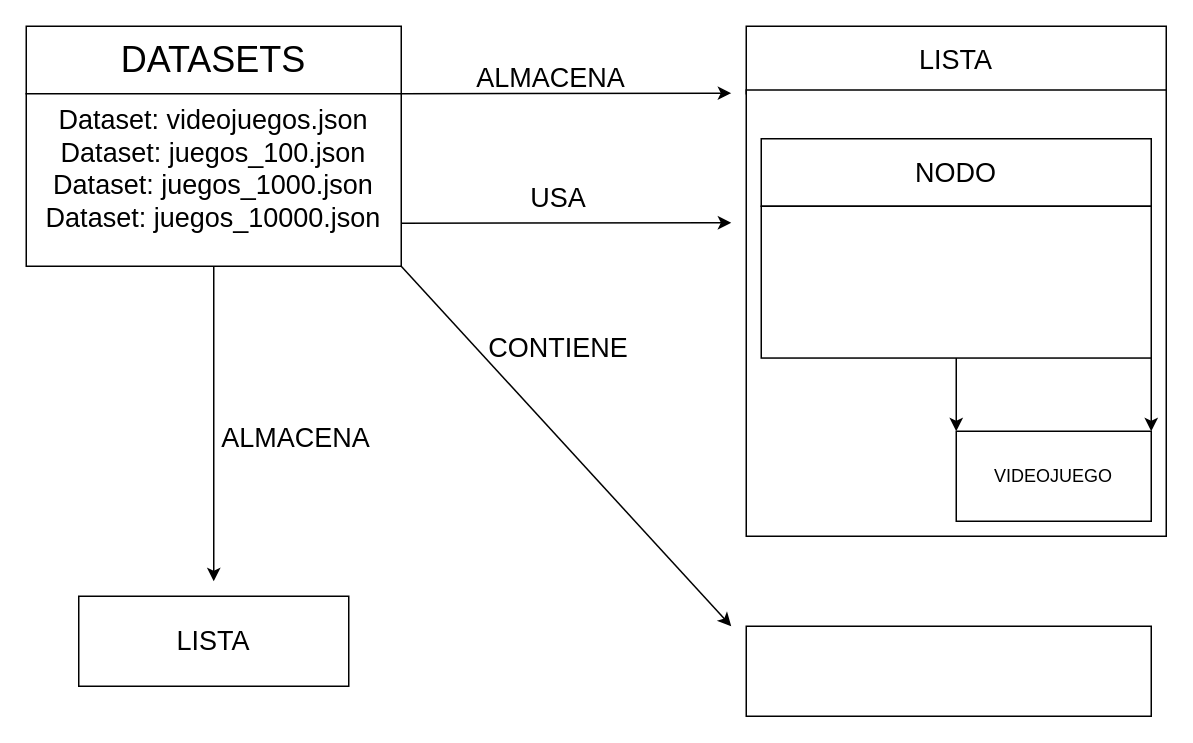
This 1193x743 diagram has some shape labels left out. Here are the shapes that lost their labels. From the top down, the centre of each, then its label:
the point at 955,281: -dato: Videojuego -izquierdo: Nodo -derecho: Nodo
the point at 948,670: DICCIONARIO
